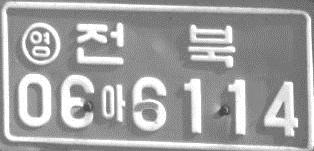0: (17, 71, 52, 127)
1: (219, 78, 256, 135), (175, 77, 211, 134)
4: (263, 80, 298, 136)
6: (131, 76, 167, 131), (59, 73, 94, 129)
아: (100, 83, 127, 122)
영: (20, 21, 61, 66)
전북_D: (74, 21, 235, 68)
